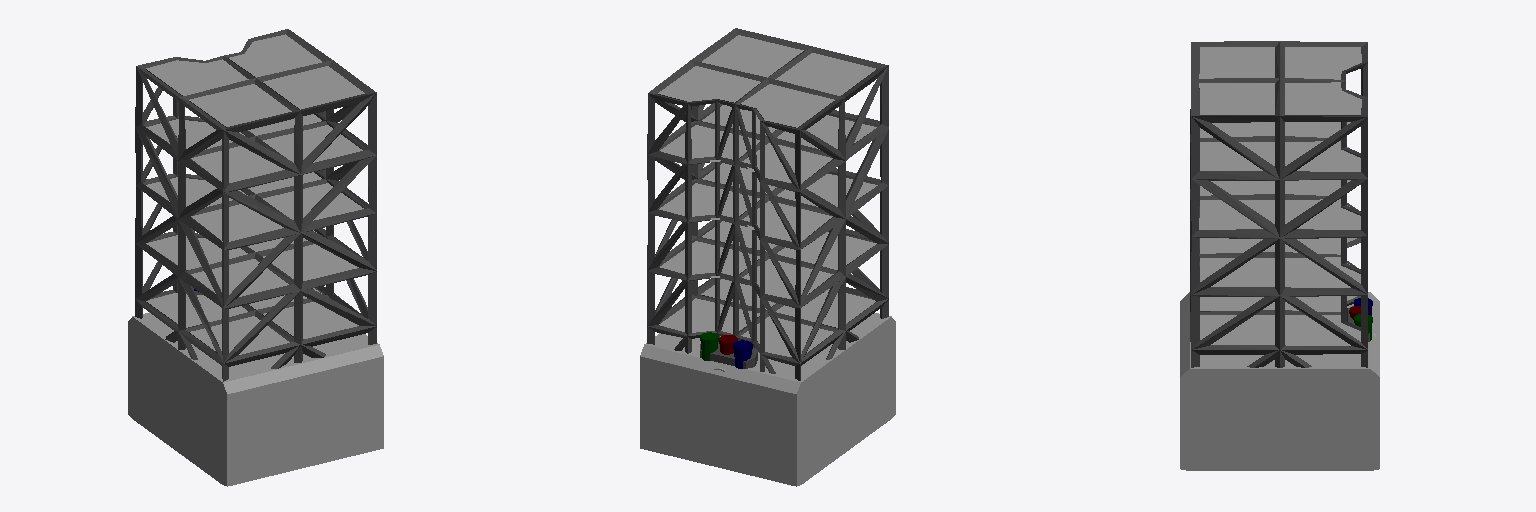
3 views of the same model, side by side, from view 1: azimuth 30°, elevation 25°; view 2: azimuth 150°, elevation 25°; view 3: azimuth 270°, elevation 25° (orthographic).
Parts seen in each view (by area): view 1: Cube, Cube.003_Cube.002; view 2: Cube, Cube.003_Cube.002, Cube.001_Cube.003; view 3: Cube, Cube.003_Cube.002.
Part boxes in pixels (x1,y1,x2,y2): Cube: (135, 29, 376, 381); Cube.003_Cube.002: (128, 312, 383, 486); Cube: (647, 28, 888, 380); Cube.003_Cube.002: (640, 313, 895, 486); Cube.001_Cube.003: (700, 332, 757, 371); Cube: (1190, 41, 1367, 367); Cube.003_Cube.002: (1180, 292, 1379, 470).
Size of the model in its own units: 8.48 by 18.43 by 9.33.
Materials: 2 (1 with a texture image).